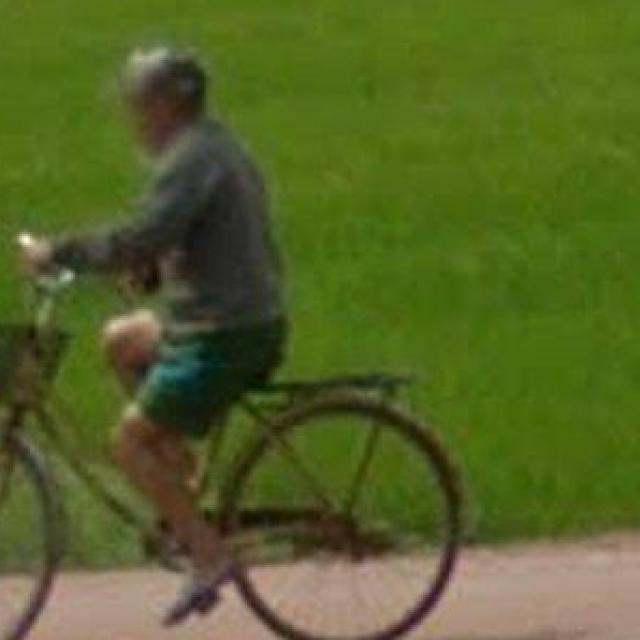bicycle: (201, 377, 467, 640), (1, 272, 184, 640)
